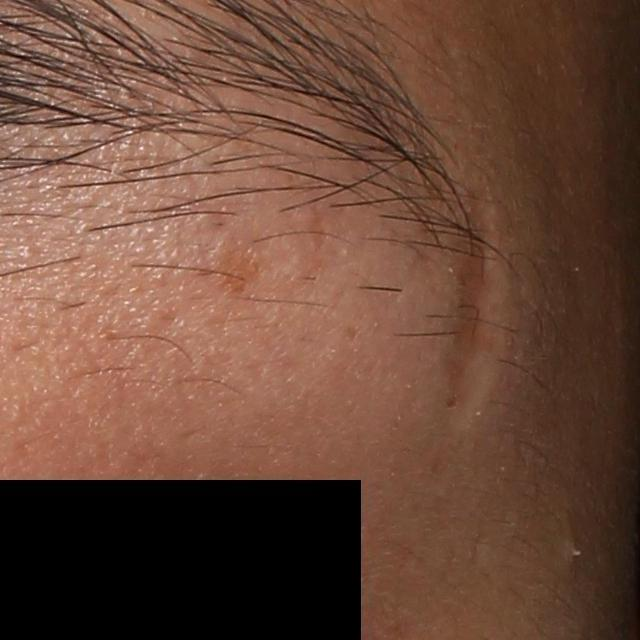melasma: (201, 241, 260, 302)
other: (430, 180, 523, 429)
